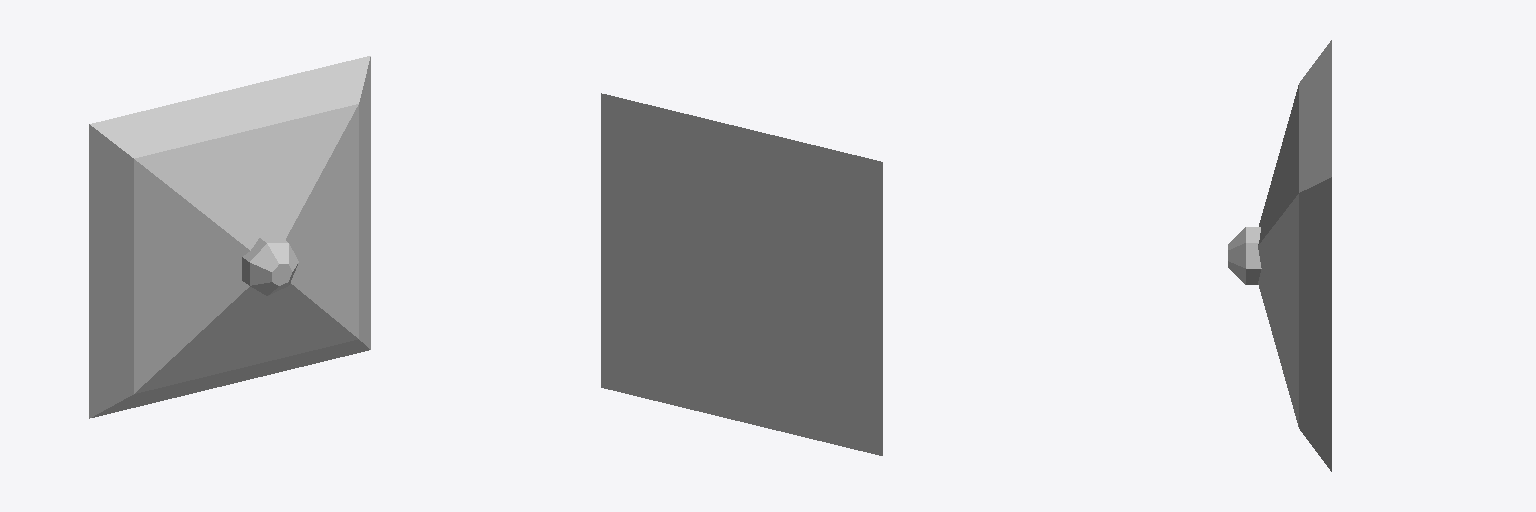
The model's file is laser_base_rework.obj.
3 renders of one model, left to right at view 1: azimuth 30°, elevation 25°; view 2: azimuth 150°, elevation 25°; view 3: azimuth 270°, elevation 25°, orthographic.
Visible parts, largest first — view 1: base_setup_base, base_setup_ball; view 2: base_setup_base; view 3: base_setup_base, base_setup_ball.
Boxes of the visible parts, x1,y1,x2,y2 form: base_setup_base: [89, 56, 370, 418]; base_setup_ball: [242, 238, 298, 295]; base_setup_base: [601, 93, 882, 455]; base_setup_base: [1258, 40, 1331, 471]; base_setup_ball: [1228, 227, 1261, 284].
Size of the model in its own units: 2 by 2 by 0.6348.